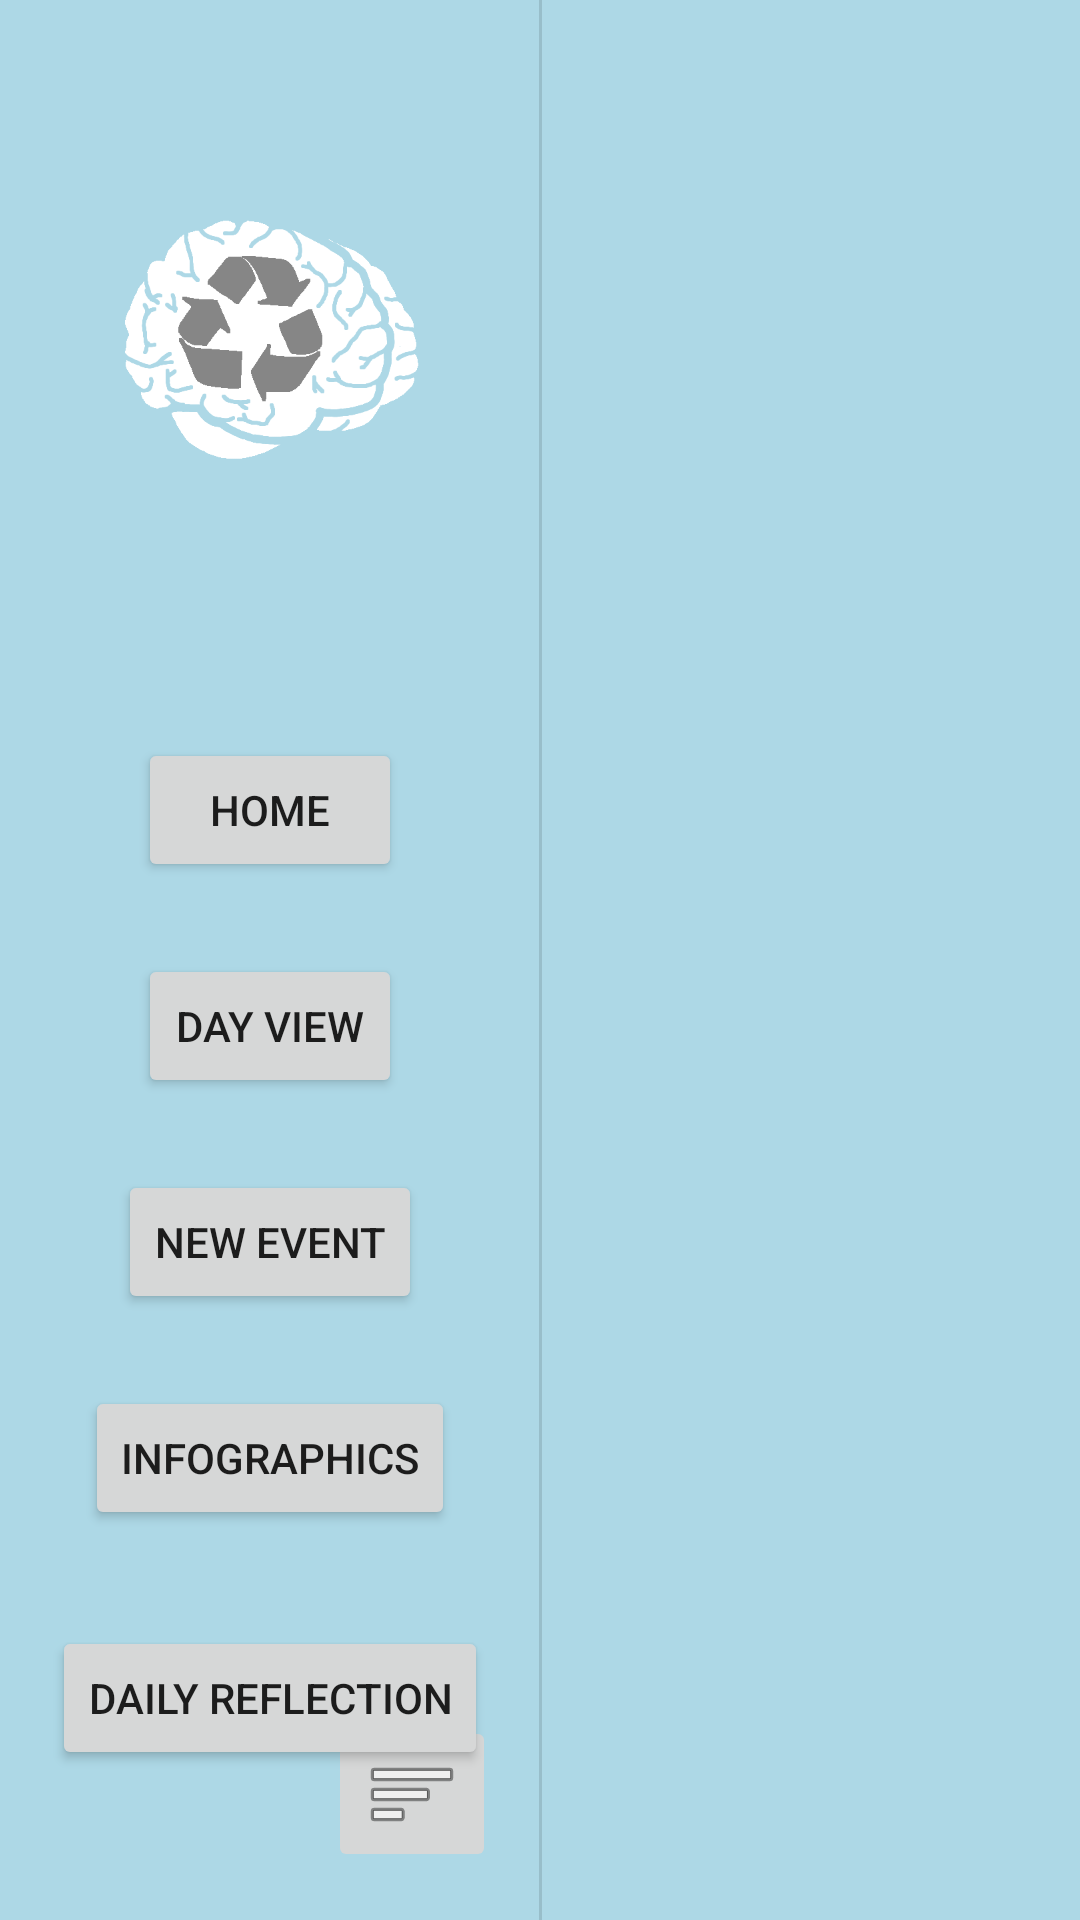

Icons on this 1080w x 1920h Android screen, each with the point to tap as (x=x, y=y):
remakeme: (x=271, y=340)
